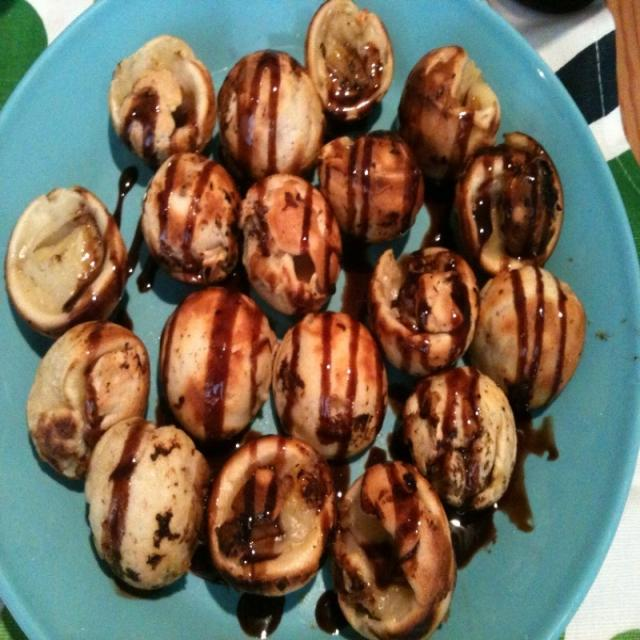炸货点心: (0, 0, 400, 533)
